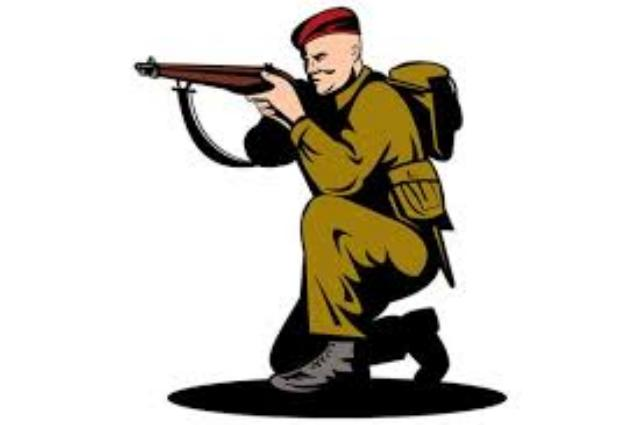other: (288, 3, 432, 386)
